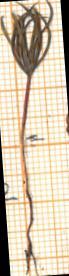flower: (0, 0, 57, 77)
root: (14, 139, 44, 276)
stem: (14, 78, 37, 140)
